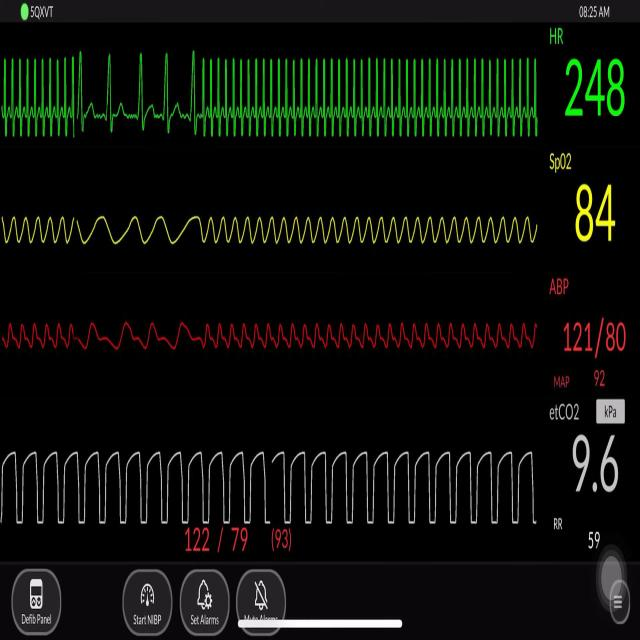danger: (190, 43, 547, 155), (2, 47, 93, 148)
